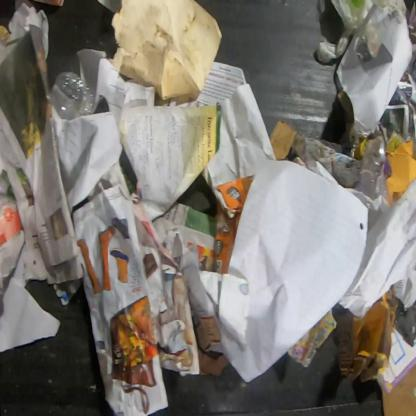cardboard: (332, 283, 400, 384), (376, 328, 415, 395), (380, 364, 415, 415), (268, 119, 300, 160), (197, 346, 231, 378)
rigid_plastic: (353, 130, 389, 202), (49, 70, 99, 121)
soft_plastic: (316, 0, 407, 65), (354, 15, 384, 64), (395, 297, 415, 348)
